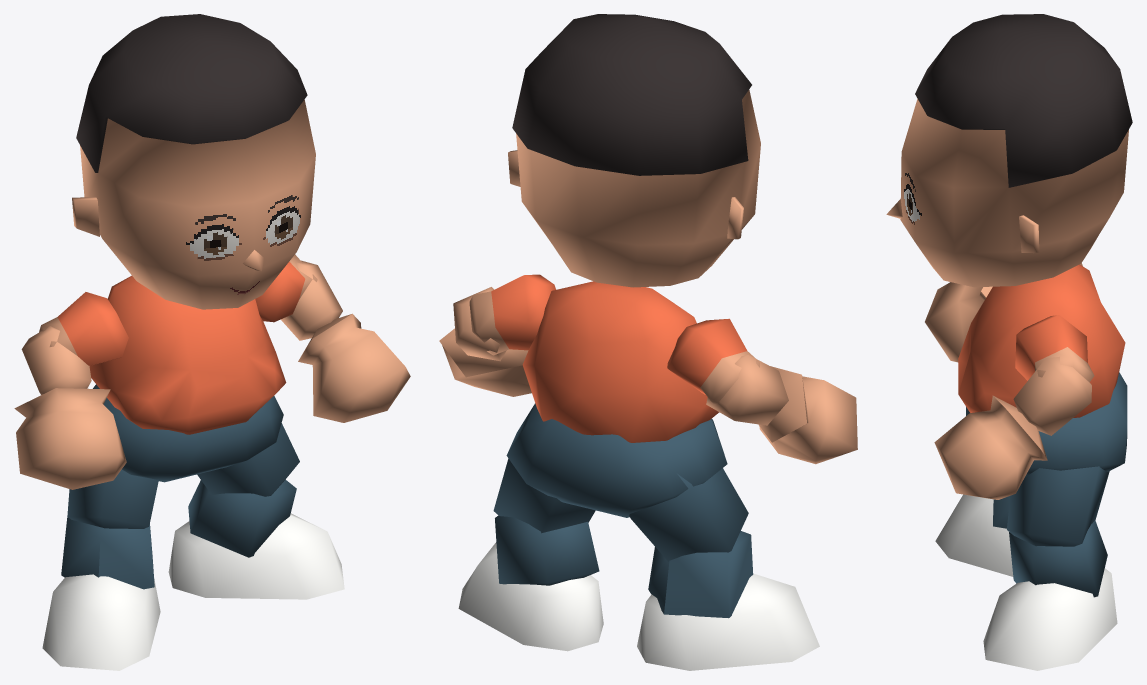
3 renders of one model, left to right at view 1: azimuth 30°, elevation 25°; view 2: azimuth 150°, elevation 25°; view 3: azimuth 270°, elevation 25°, orthographic. The views are drawn at different scales.
Visible parts, largest first — view 1: Character; view 2: Character; view 3: Character.
Part boxes in pixels (box(x1,y1,x2,y2)): Character: box(14, 14, 410, 670); Character: box(439, 14, 857, 670); Character: box(886, 14, 1132, 670).
Size of the model in its own units: 1.98 by 2.78 by 1.09.
Materials: 9 (2 with a texture image).
